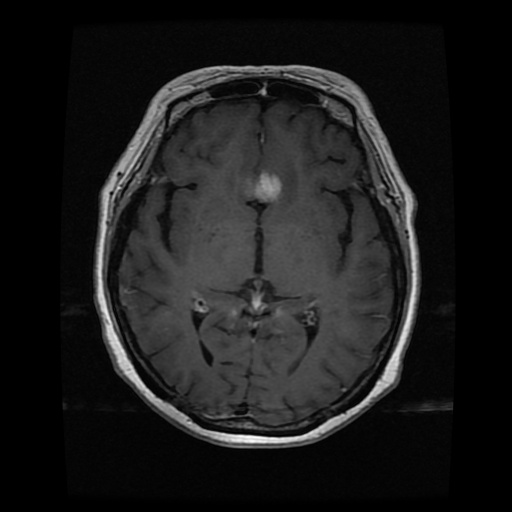meningioma: (246, 169, 285, 202)
